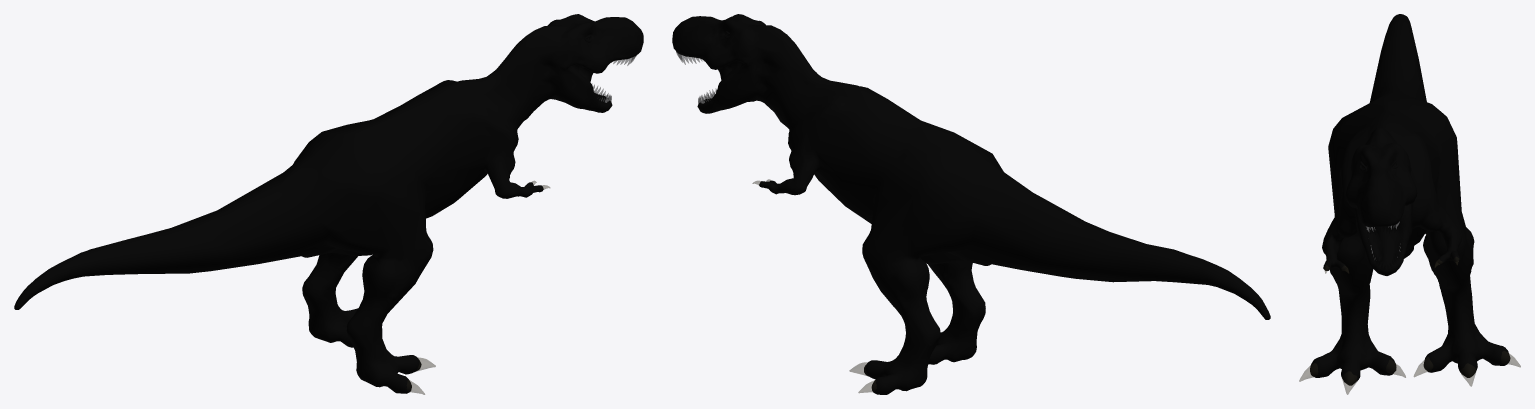
The model's file is t-rex_1.glb.
3 renders of one model, left to right at view 1: azimuth 30°, elevation 25°; view 2: azimuth 150°, elevation 25°; view 3: azimuth 270°, elevation 25°, orthographic. The views are drawn at different scales.
Parts seen in each view (by area): view 1: T-Rex Model; view 2: T-Rex Model; view 3: T-Rex Model.
Boxes of the visible parts, bbox=[...] form: T-Rex Model: bbox=[14, 14, 643, 394]; T-Rex Model: bbox=[672, 14, 1270, 394]; T-Rex Model: bbox=[1299, 14, 1520, 394].
Bounding box in the file's own units: 543 × 258 × 153.
